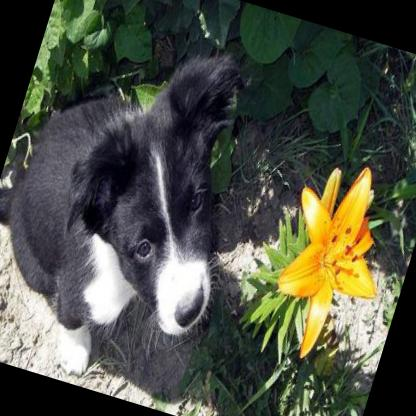collie: (0, 0, 290, 406)
